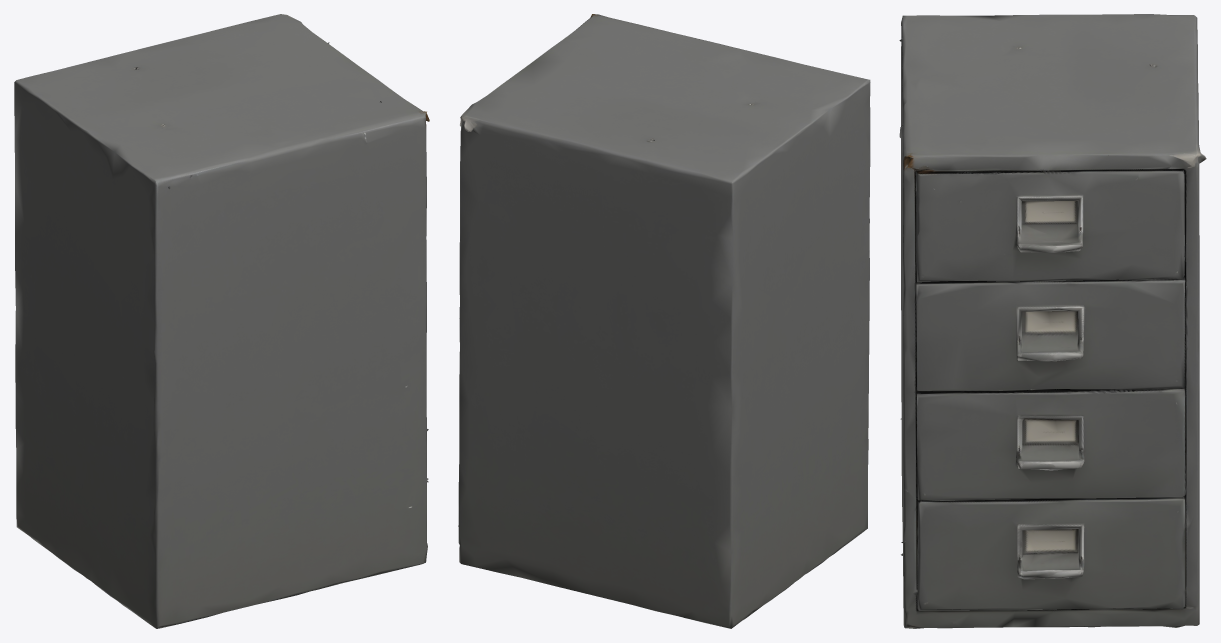
3 renders of one model, left to right at view 1: azimuth 30°, elevation 25°; view 2: azimuth 150°, elevation 25°; view 3: azimuth 270°, elevation 25°, orthographic. The views are drawn at different scales.
Parts seen in each view (by area): view 1: tripo_node_e376cfca-0018-4244-95af-8834bca0da21; view 2: tripo_node_e376cfca-0018-4244-95af-8834bca0da21; view 3: tripo_node_e376cfca-0018-4244-95af-8834bca0da21.
Boxes of the visible parts, left/top/right/bottom form: tripo_node_e376cfca-0018-4244-95af-8834bca0da21: left=14, top=14, right=429, bottom=628; tripo_node_e376cfca-0018-4244-95af-8834bca0da21: left=458, top=14, right=870, bottom=628; tripo_node_e376cfca-0018-4244-95af-8834bca0da21: left=899, top=14, right=1206, bottom=628.
Size of the model in its own units: 0.6927 by 1 by 0.5828.
Materials: 1 (1 with a texture image).
